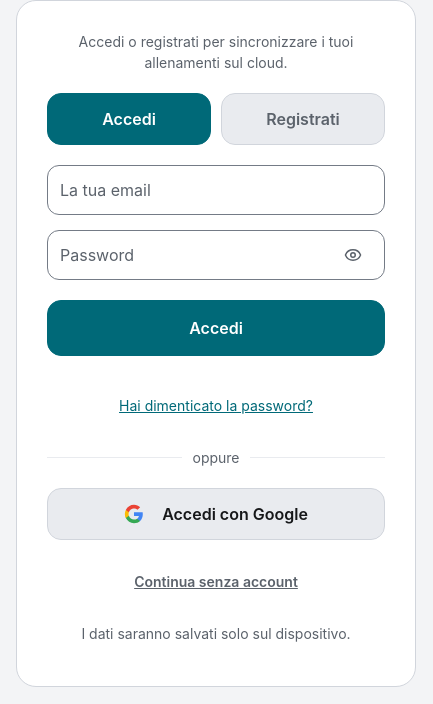
Test: LoginBox guest Google authentication › blocks duplicate email form submissions while Auth is unresolved
This screenshot has width=433, height=704.
Type "existing@example.com" into the field labelled "email" at (216, 190), box [47,165,385,215]
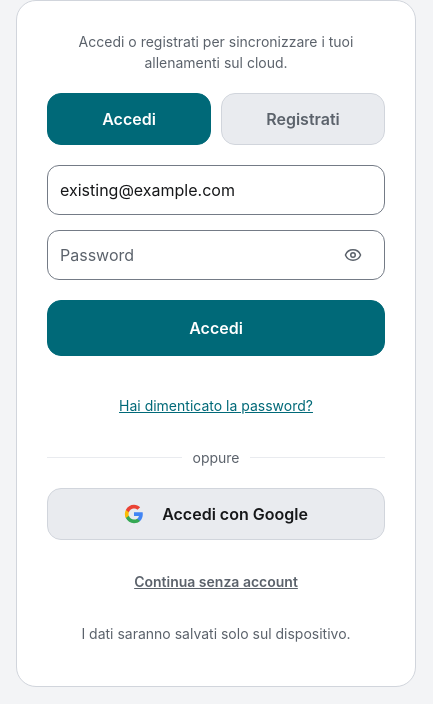
Type "ExistingPassword1!" into the password field labelled "Password" at (216, 255), box [47,230,385,280]
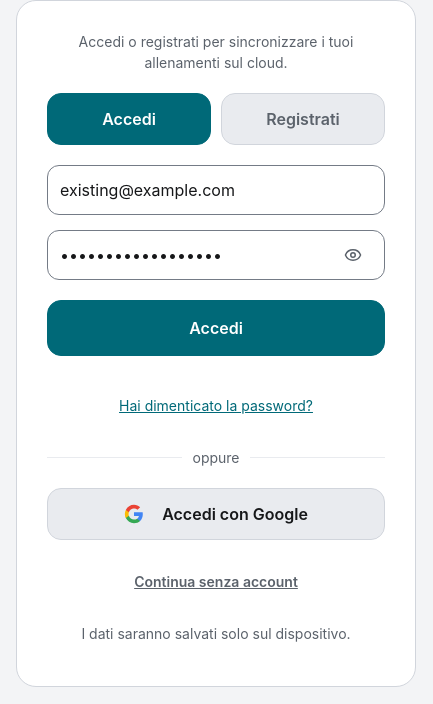
Click the 2nd button "Accedi" at (216, 328), box [47,300,385,356]
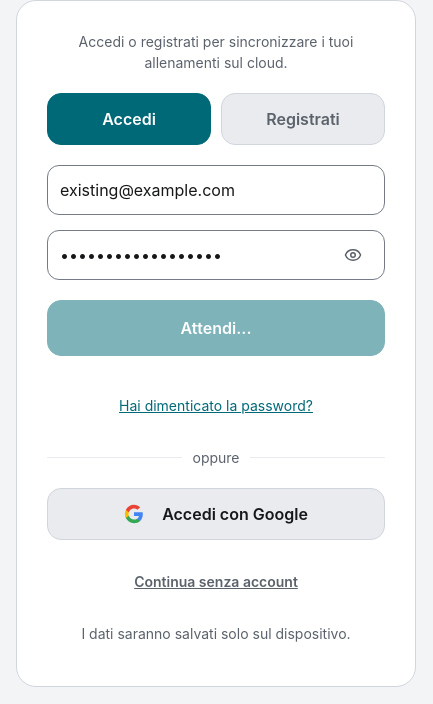
Expected: the button named "Accedi" is disabled
Click the button named "Accedi" at (216, 328), box [47,300,385,356]
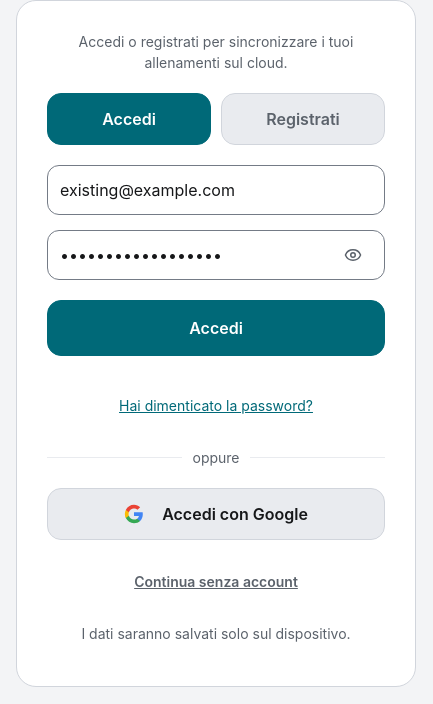
Expected: the 2nd button "Accedi" is enabled, [47,300,385,356]
